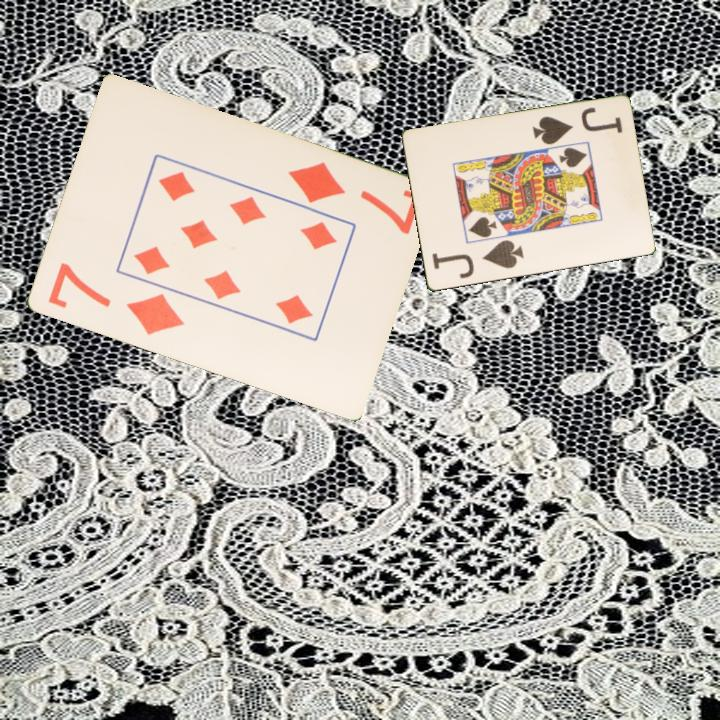7d: (43, 259, 187, 339), (284, 158, 424, 238)
Js: (428, 237, 526, 282), (529, 104, 625, 148)
